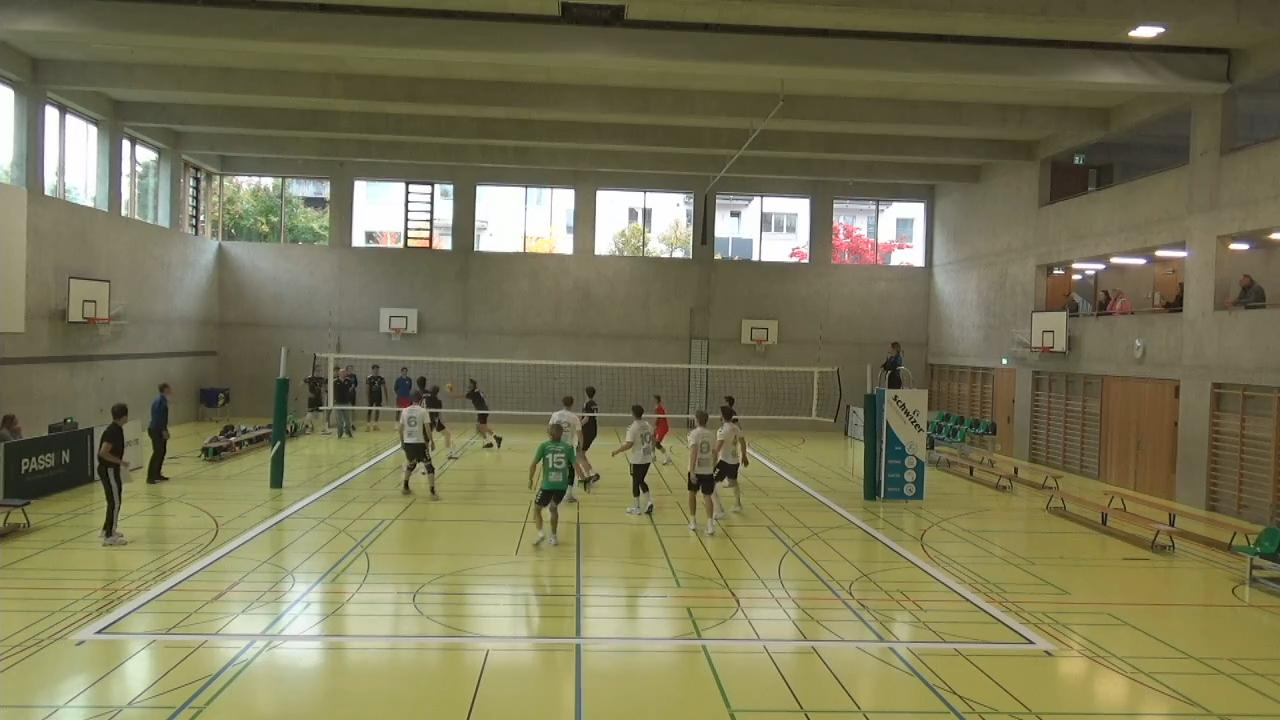difesa: (463, 378, 498, 453)
